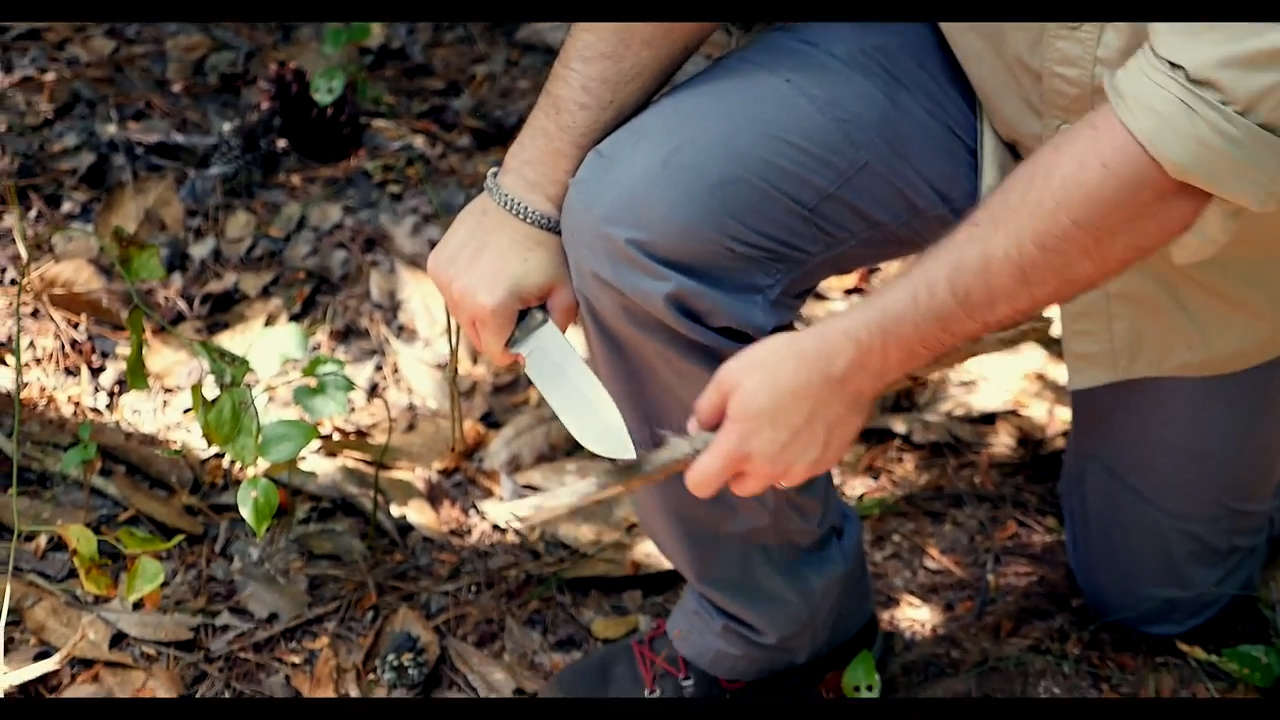knife: (423, 250, 643, 467)
